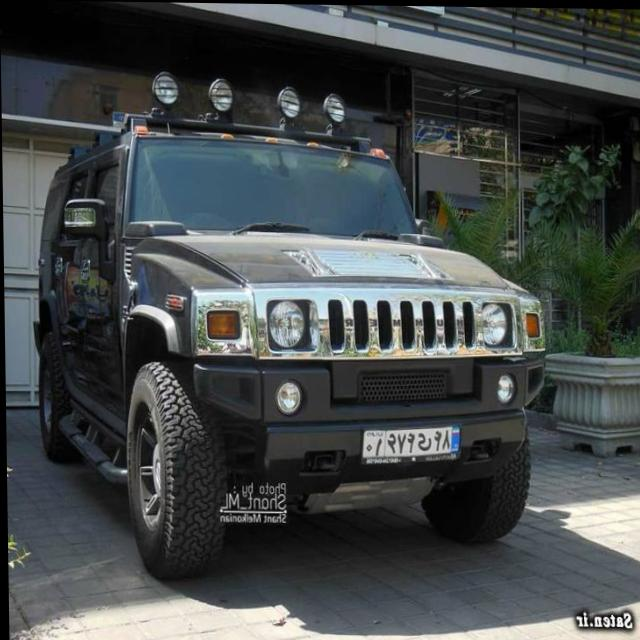licence: (360, 423, 463, 465)
